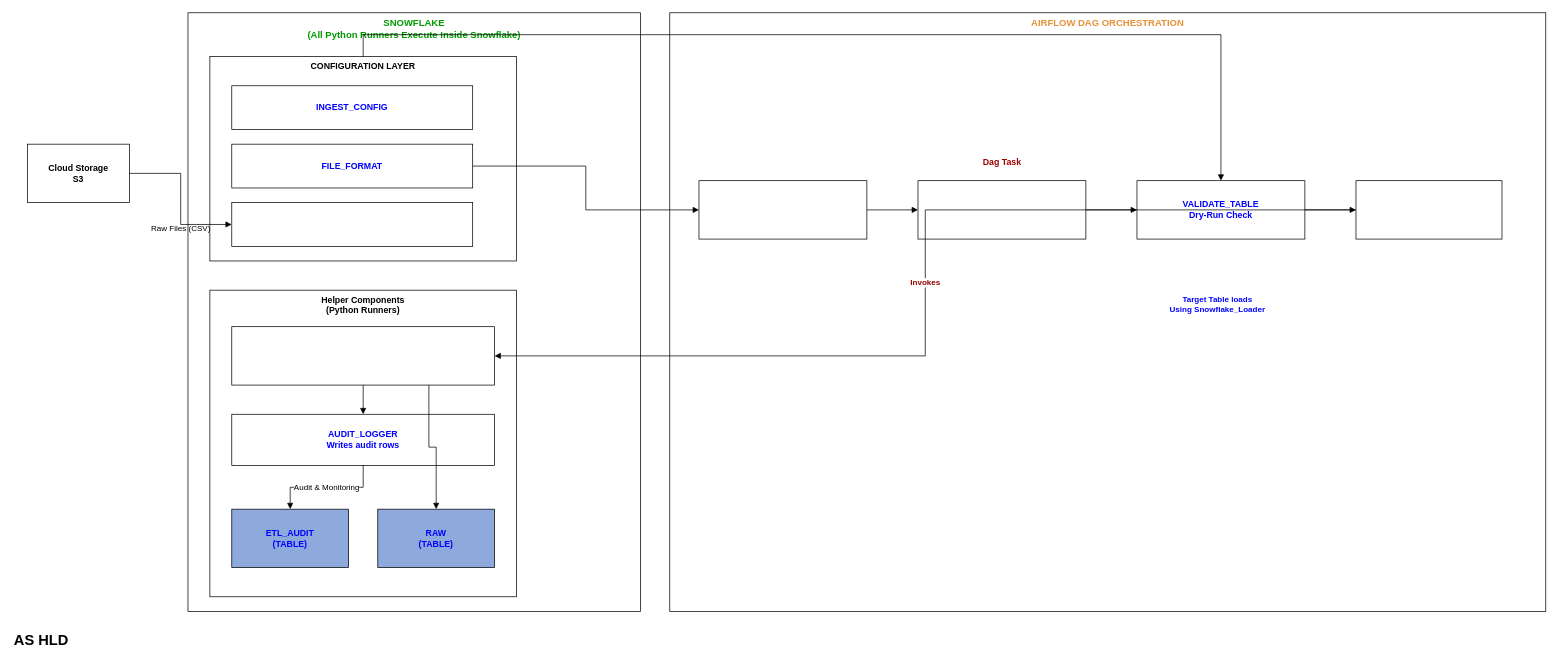
Some shapes in this 1559 by 668 pixel diagram are drawn without their labels. The centre of each missing label's shape, as x and y in pixels:
CHECK_FILE_ARRIVAL Verify File existence: point 1001,209
GET_CONFIGS Read Active Rows: point 782,209
LOAD_TABLE Execute SP: point 1428,209
SNOWFLAKE_LOADER RUNS COPY INTO SQL Loads data into Target Table: point 363,355
SNOWFLAKE_STAGE: point 352,224
